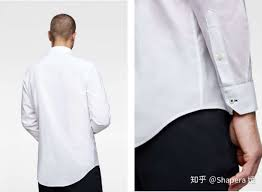S_shirt: (21, 46, 110, 187)
